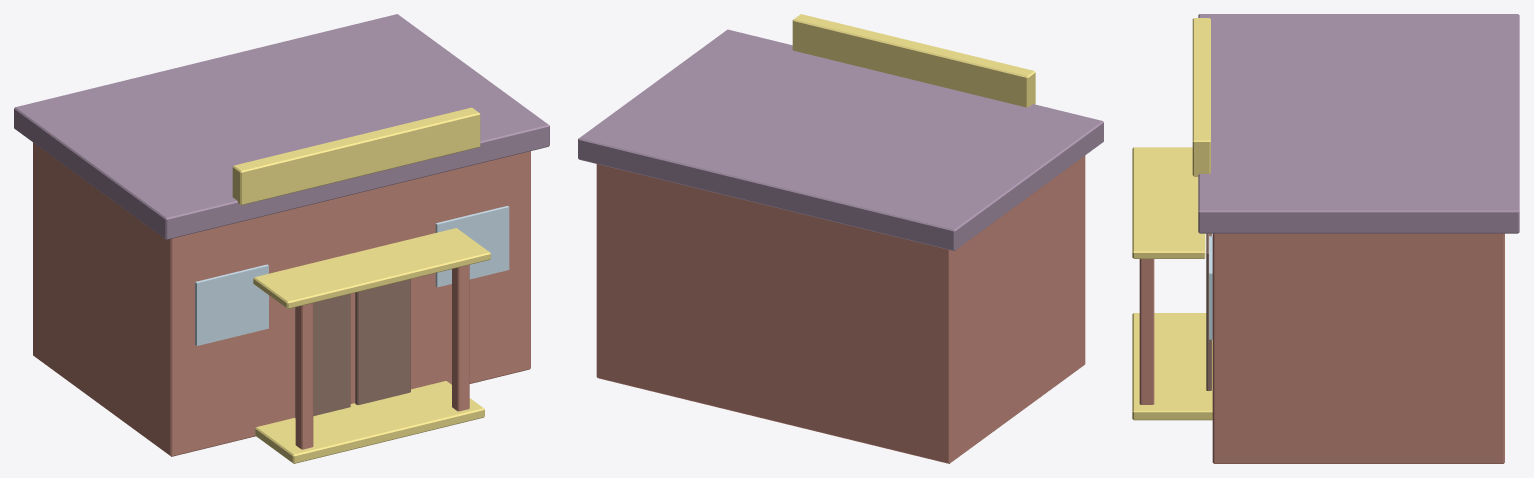
3 renders of one model, left to right at view 1: azimuth 30°, elevation 25°; view 2: azimuth 150°, elevation 25°; view 3: azimuth 270°, elevation 25°, orthographic. The views are drawn at different scales.
Parts seen in each view (by area): view 1: po_01; view 2: po_01; view 3: po_01.
Part boxes in pixels (left/top/right/bottom): po_01: left=14, top=14, right=549, bottom=463; po_01: left=578, top=14, right=1103, bottom=463; po_01: left=1132, top=14, right=1519, bottom=463.
Bounding box in the file's own units: 6.4 × 4.43 × 5.3.
